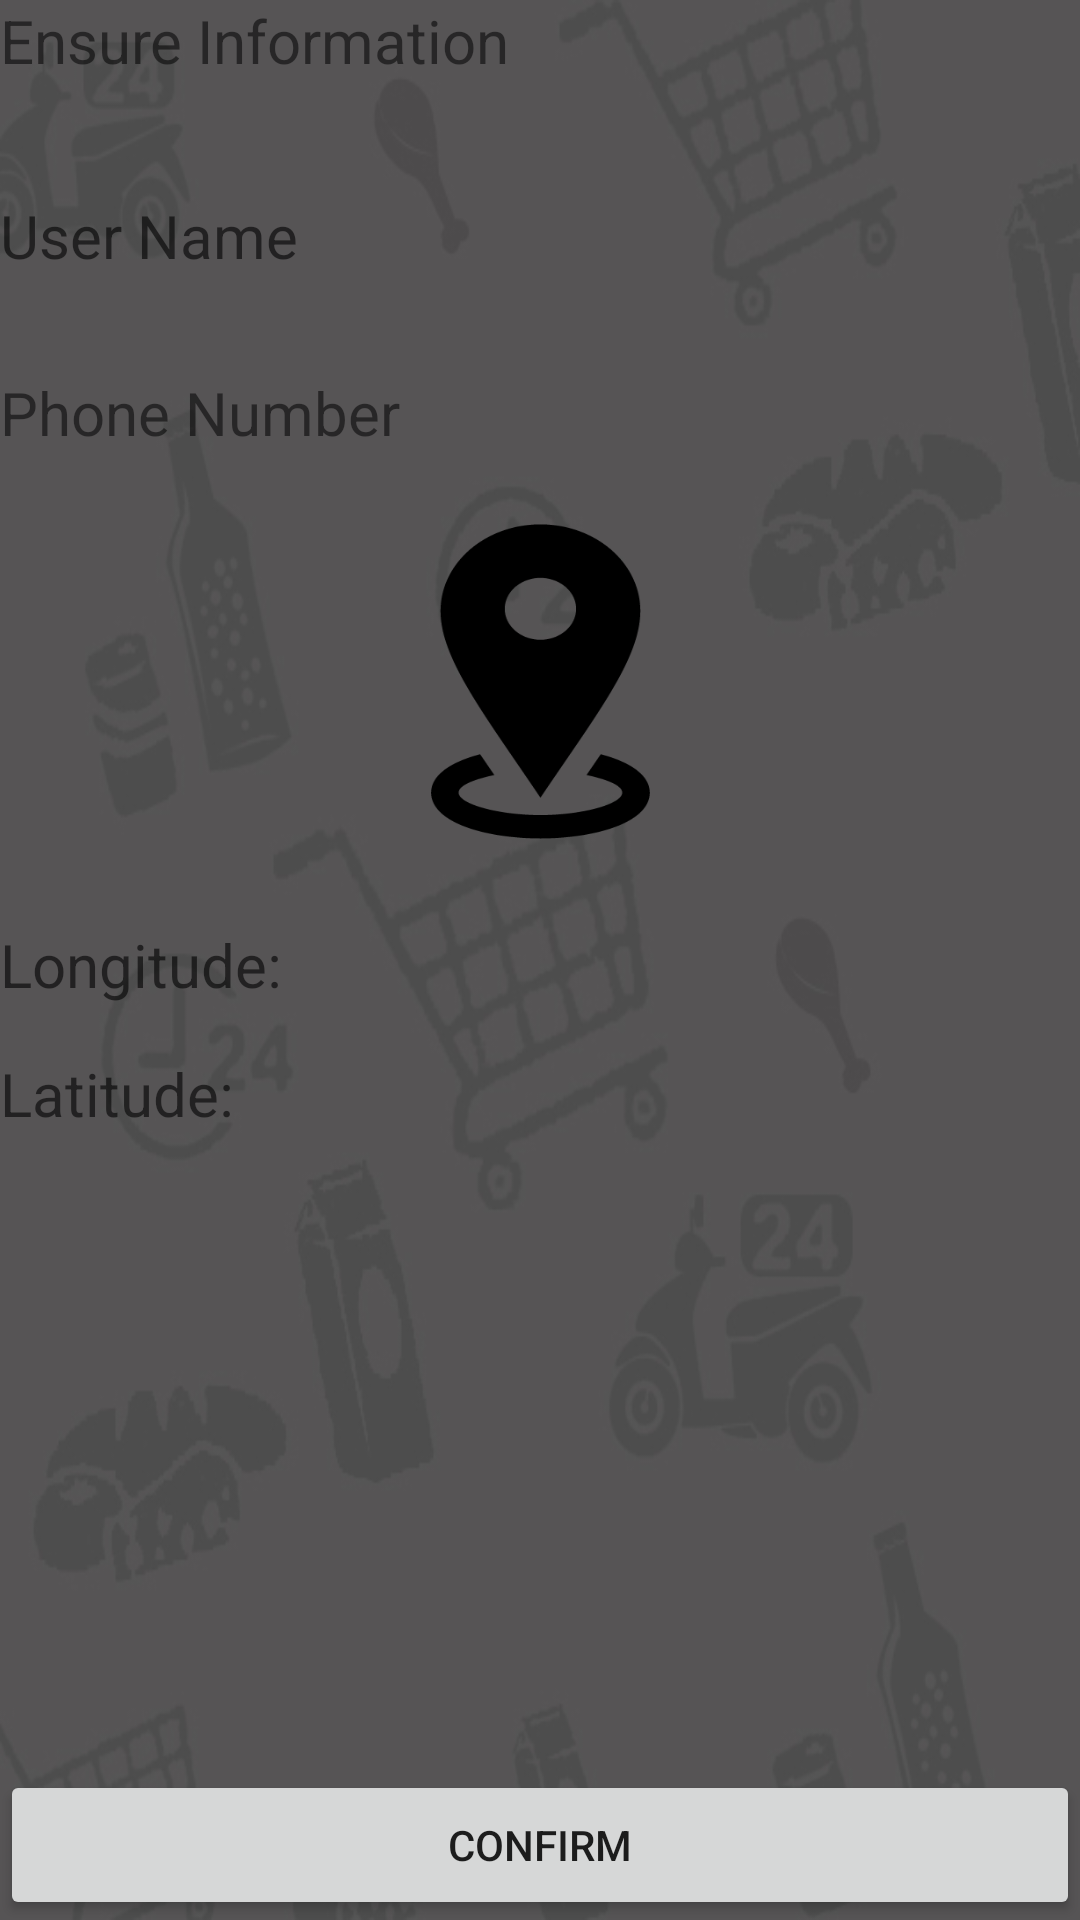

Named icons in this screenshot (1080 × 1920) and their centers, point (x, y):
loc: point (540, 681)
